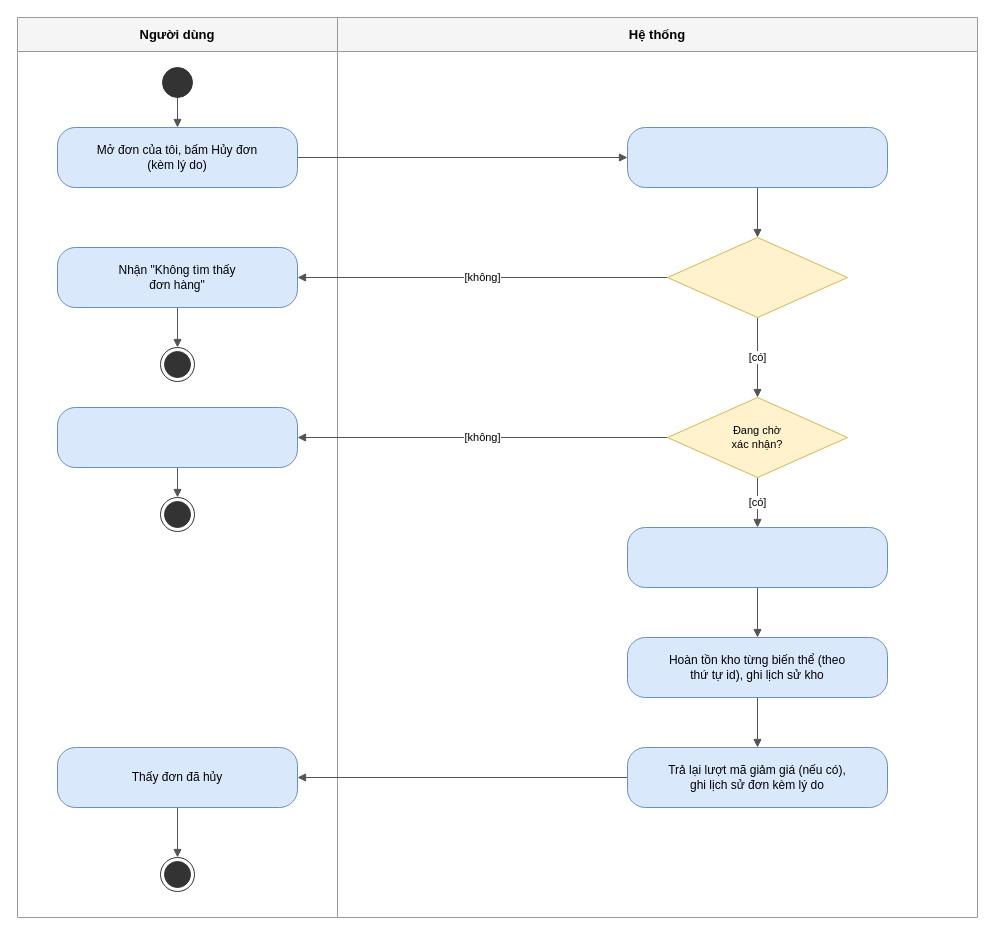
This 995x935 diagram has some shape labels left out. The shapes that lost their labels are listed below. From the top down, each one's centre as x and y in pixels, then its label:
point 757,157: Tìm đơn theo mã trong các đơn của chính khách, khóa dòng đơn
point 757,277: Tìm thấy?
point 177,437: Nhận "Chỉ hủy được đơn đang chờ xác nhận"
point 757,557: Chuyển đơn sang đã hủy
